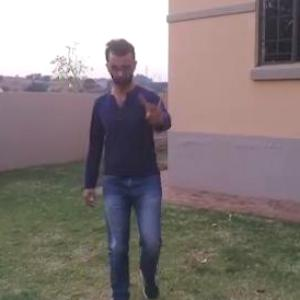takeoff-hand: (137, 85, 170, 127)
